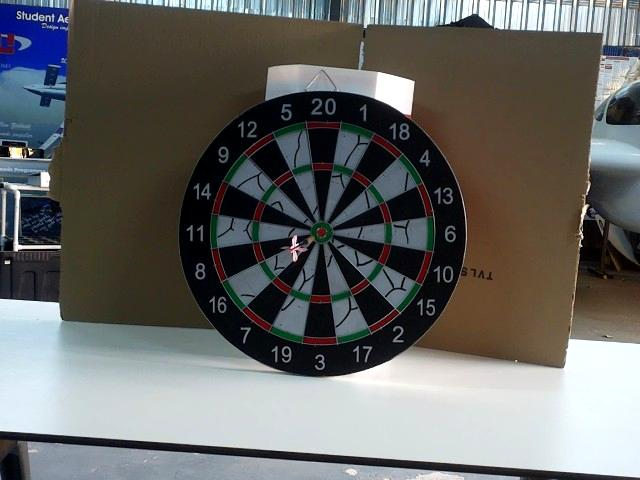bullseye: (311, 222, 334, 245)
